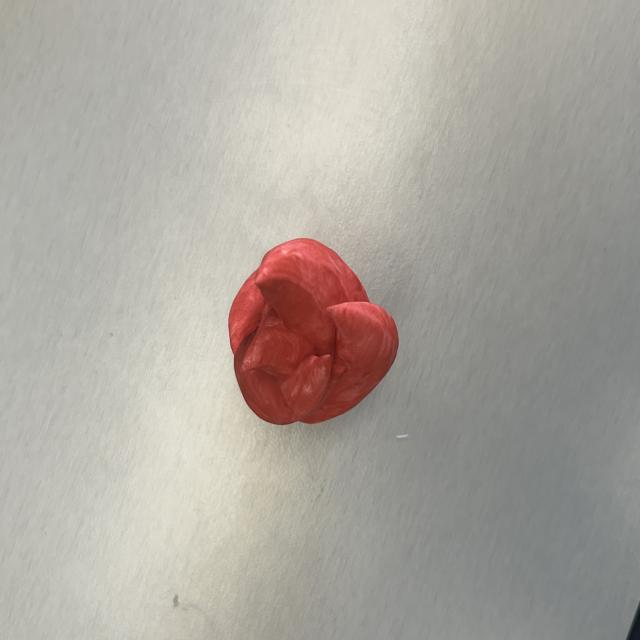fire: (227, 235, 403, 426)
